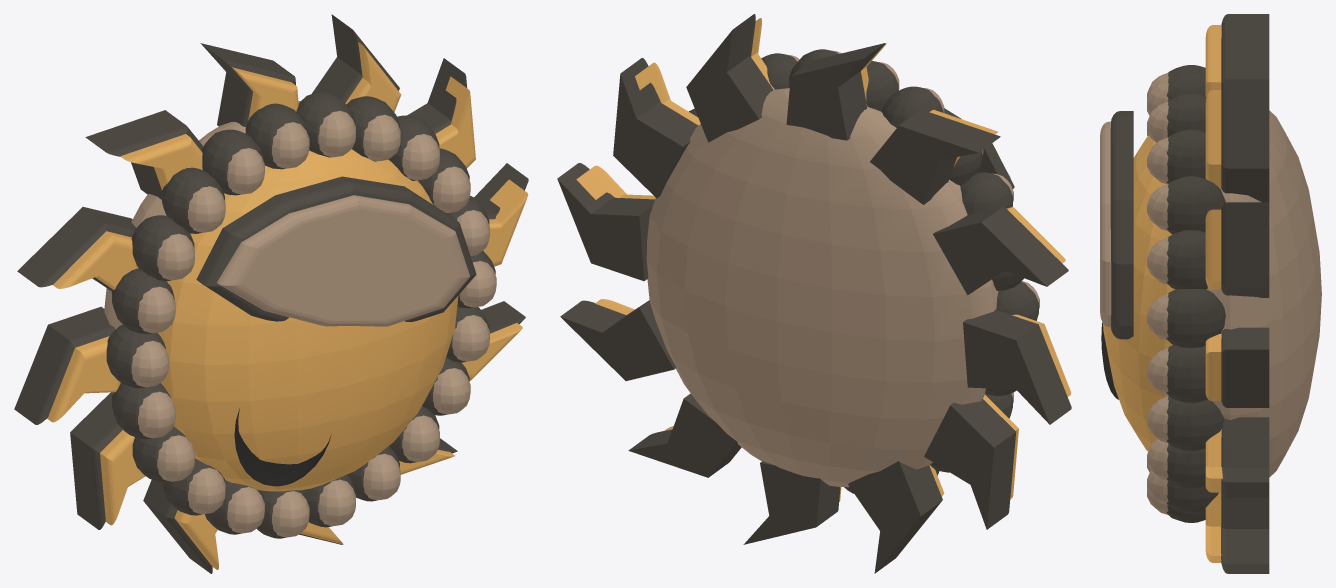
The model's file is Protexture.glb.
3 views of the same model, side by side, from view 1: azimuth 30°, elevation 25°; view 2: azimuth 150°, elevation 25°; view 3: azimuth 270°, elevation 25° (orthographic). The views are drawn at different scales.
Visible parts, largest first — view 1: Protexture; view 2: Protexture; view 3: Protexture.
Part boxes in pixels (x1=…): Protexture: x1=14, y1=14, x2=528, y2=573; Protexture: x1=557, y1=14, x2=1071, y2=573; Protexture: x1=1100, y1=14, x2=1321, y2=573.
Bounding box in the file's own units: 1.3 × 1.3 × 0.5202.
